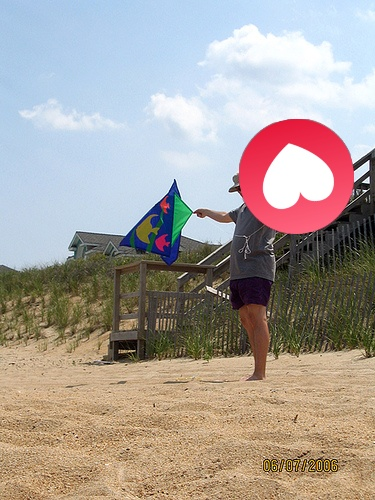love: (239, 119, 354, 234)
